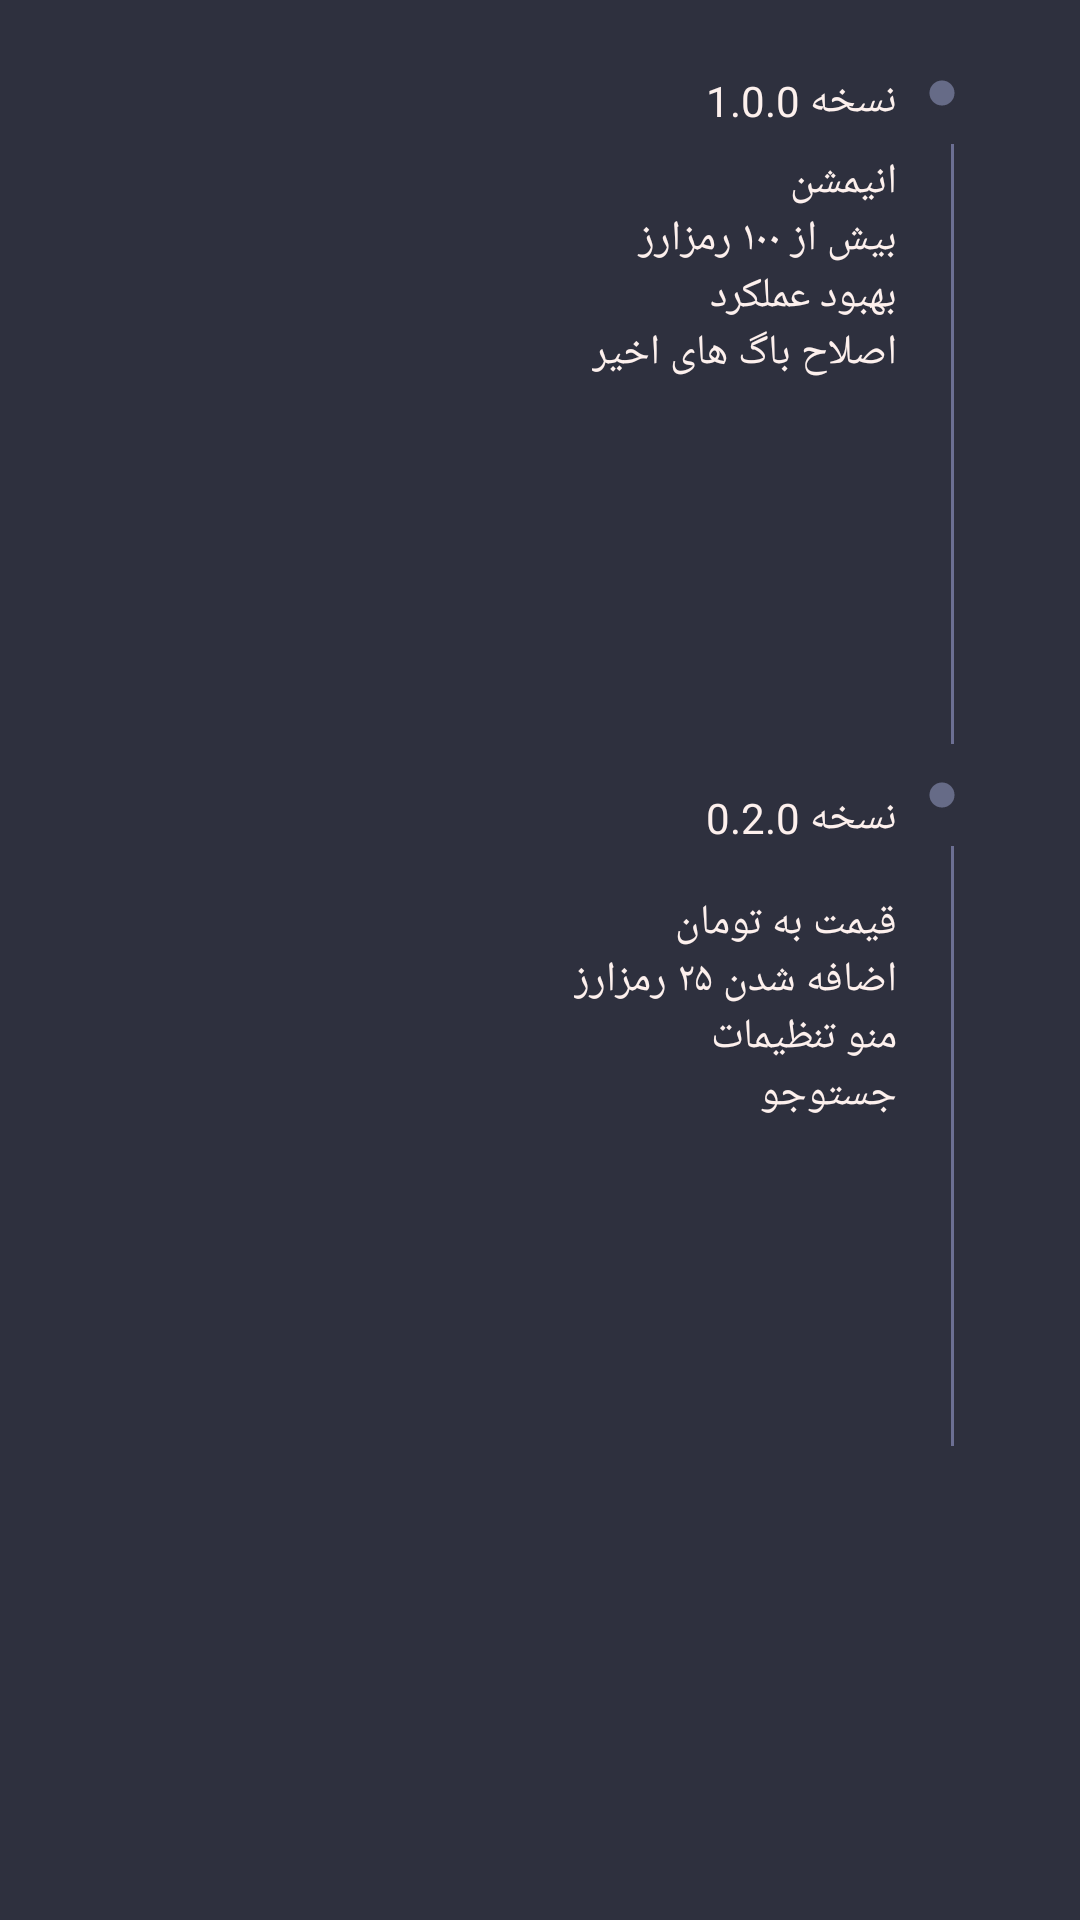

Screen size 1080 x 1920. Icon name, then its box in pixels as {"x1": x1, "y1": y1, "x2": x2, "y2": y2}:
dot: {"x1": 929, "y1": 80, "x2": 955, "y2": 106}, {"x1": 929, "y1": 782, "x2": 955, "y2": 808}
